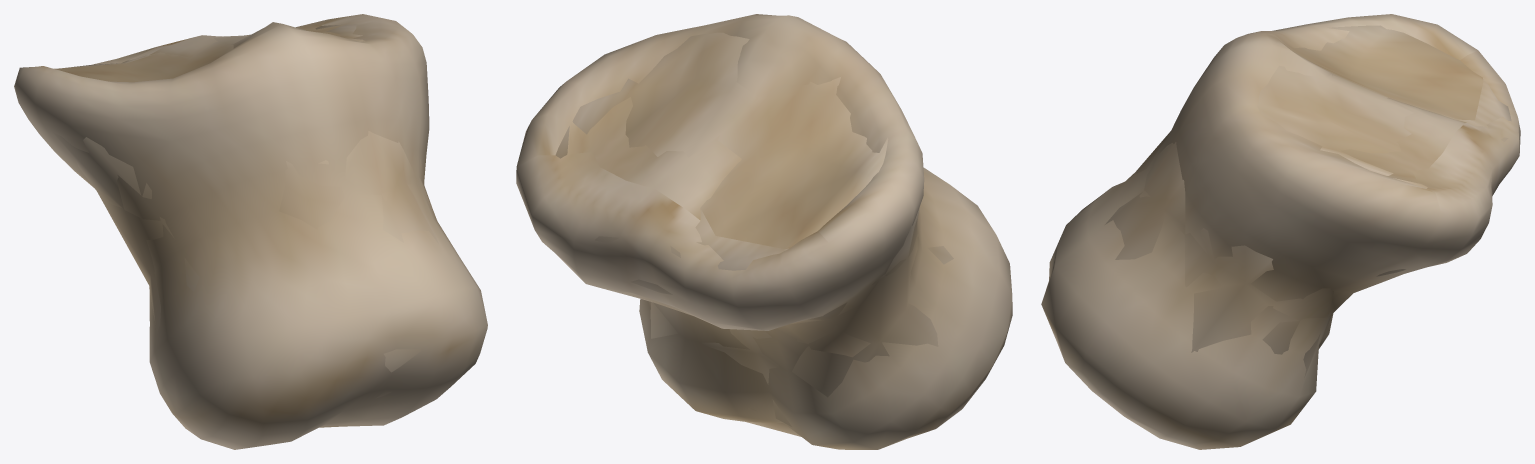
File: FL 2nd Phalanx.fbx
3 renders of one model, left to right at view 1: azimuth 30°, elevation 25°; view 2: azimuth 150°, elevation 25°; view 3: azimuth 270°, elevation 25°, orthographic. The views are drawn at different scales.
Visible parts, largest first — view 1: FL 2nd Phalanx, FL 2nd Phalanx low; view 2: FL 2nd Phalanx, FL 2nd Phalanx low; view 3: FL 2nd Phalanx, FL 2nd Phalanx low.
Part boxes in pixels (box(x1,y1,x2,y2)): FL 2nd Phalanx: box(14, 14, 487, 449); FL 2nd Phalanx low: box(53, 24, 438, 398); FL 2nd Phalanx: box(516, 14, 1012, 449); FL 2nd Phalanx low: box(555, 32, 953, 436); FL 2nd Phalanx: box(1041, 14, 1520, 449); FL 2nd Phalanx low: box(1105, 25, 1511, 377).
Size of the model in its own units: 5.96 by 6.17 by 7.12.
Materials: 1 (1 with a texture image).
